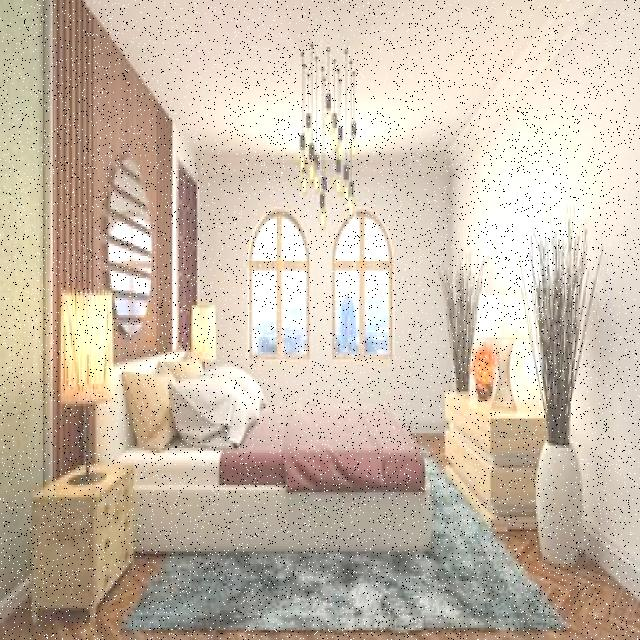bed: (117, 355, 430, 555)
